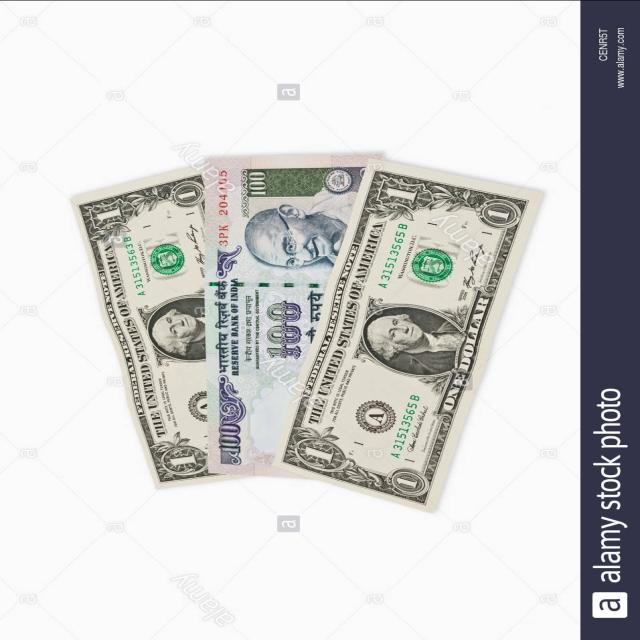100IndianRupees: (203, 152, 386, 478)
